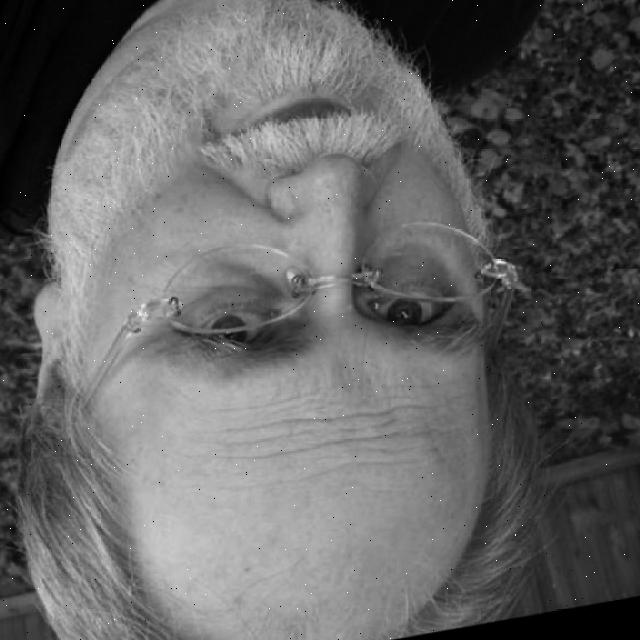puffy_eyes: (191, 251, 277, 307)
